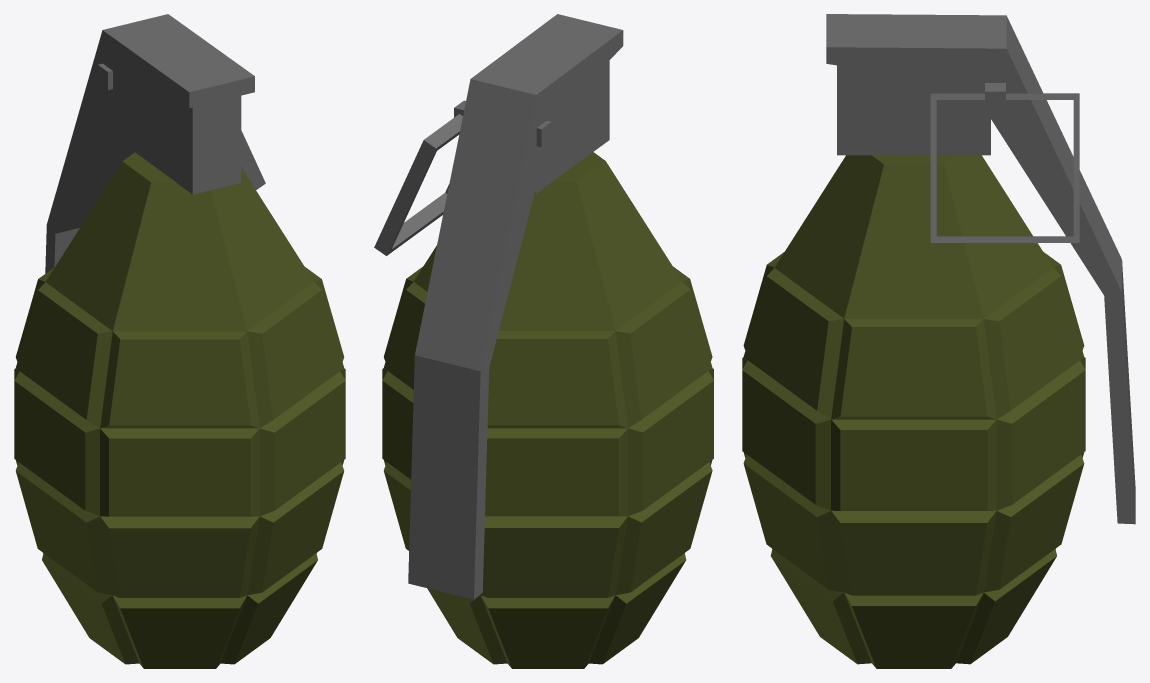
Rendered from Grenade_Frag_MK2.fbx.
3 views of the same model, side by side, from view 1: azimuth 30°, elevation 25°; view 2: azimuth 150°, elevation 25°; view 3: azimuth 270°, elevation 25° (orthographic). The views are drawn at different scales.
Visible parts, largest first — view 1: Grenade_Frag_MK2; view 2: Grenade_Frag_MK2; view 3: Grenade_Frag_MK2.
Part boxes in pixels (bbox=[...]): Grenade_Frag_MK2: bbox=[14, 14, 345, 668]; Grenade_Frag_MK2: bbox=[374, 14, 713, 668]; Grenade_Frag_MK2: bbox=[742, 14, 1135, 668].
Size of the model in its own units: 5.33 by 11.36 by 6.73.
